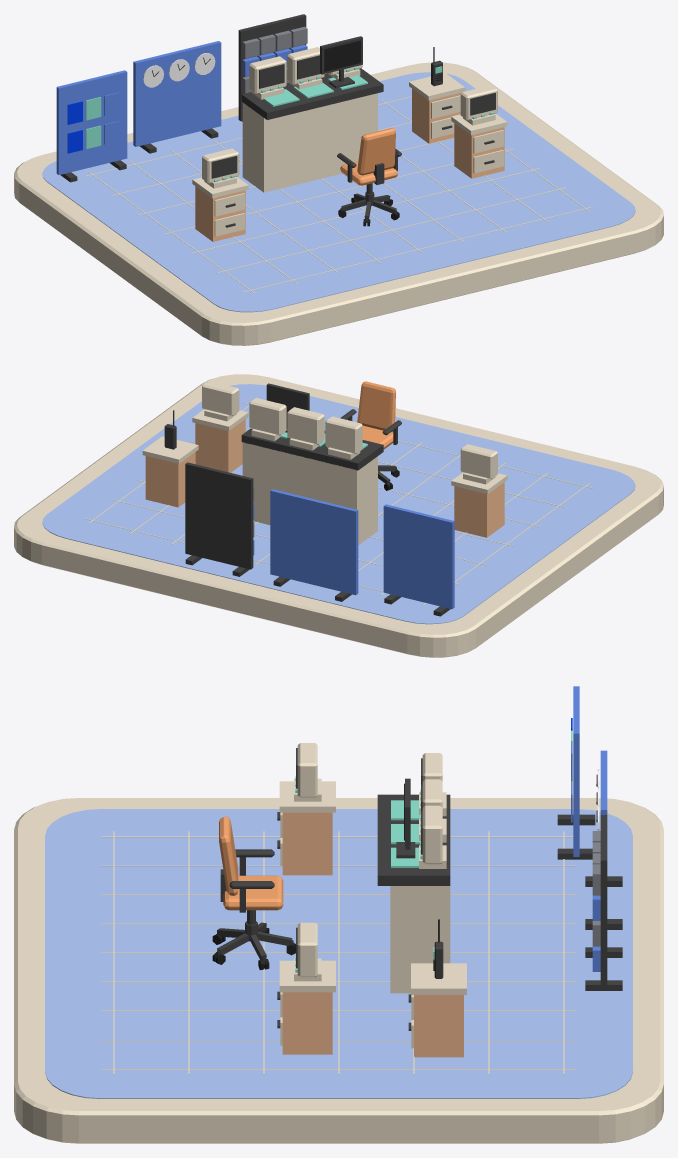
3 renders of one model, top to bottom at view 1: azimuth 30°, elevation 25°; view 2: azimuth 150°, elevation 25°; view 3: azimuth 270°, elevation 25°, orthographic. The views are drawn at different scales.
Parts seen in each view (by area): view 1: COM-02 Floor Surface, COM-01 Rounded Base Direct, Console, Panel.002, Panel.001, COM-04_Chair_blender_direct, Panel, Frame, Panel.003, Body, Body.001, Body.002 (+15 smaller); view 2: COM-02 Floor Surface, COM-01 Rounded Base Direct, Panel.002, Console, Panel.001, Panel.003, COM-04_Chair_blender_direct, Body, Body.001, Body.002, Panel, Housing (+8 smaller); view 3: COM-02 Floor Surface, COM-01 Rounded Base Direct, COM-04_Chair_blender_direct, Console, Body, Body.001, Body.002, Panel, Top.002, Panel.003, Top.001, Top (+10 smaller).
Part boxes in pixels (bbox=[...]): COM-02 Floor Surface: bbox=[42, 72, 635, 312]; COM-01 Rounded Base Direct: bbox=[14, 62, 663, 345]; Console: bbox=[242, 93, 377, 192]; Panel.002: bbox=[133, 41, 221, 146]; Panel.001: bbox=[56, 70, 127, 174]; COM-04_Chair_blender_direct: bbox=[337, 128, 401, 226]; Panel: bbox=[241, 68, 383, 119]; Frame: bbox=[320, 36, 362, 87]; Panel.003: bbox=[238, 14, 306, 121]; Body: bbox=[195, 186, 245, 241]; Body.001: bbox=[454, 123, 504, 178]; Body.002: bbox=[412, 89, 461, 143]; COM-02 Floor Surface: bbox=[42, 384, 635, 624]; COM-01 Rounded Base Direct: bbox=[14, 374, 663, 657]; Panel.002: bbox=[270, 489, 358, 595]; Console: bbox=[242, 442, 377, 544]; Panel.001: bbox=[383, 504, 454, 609]; Panel.003: bbox=[185, 462, 253, 569]; COM-04_Chair_blender_direct: bbox=[340, 381, 401, 490]; Body: bbox=[454, 482, 504, 537]; Body.001: bbox=[195, 419, 245, 472]; Body.002: bbox=[145, 452, 195, 507]; Panel: bbox=[241, 428, 383, 470]; Housing: bbox=[325, 416, 362, 454]; COM-02 Floor Surface: bbox=[45, 809, 632, 1098]; COM-01 Rounded Base Direct: bbox=[14, 798, 663, 1143]; COM-04_Chair_blender_direct: bbox=[212, 816, 295, 969]; Console: bbox=[390, 886, 450, 993]; Body: bbox=[282, 812, 332, 875]; Body.001: bbox=[282, 992, 332, 1054]; Body.002: bbox=[414, 995, 463, 1057]; Panel: bbox=[377, 794, 450, 885]; Top.002: bbox=[411, 963, 466, 994]; Panel.003: bbox=[600, 815, 607, 987]; Top.001: bbox=[279, 960, 335, 992]; Top: bbox=[279, 781, 335, 812].
Bounding box in the file's own units: 6 × 1.88 × 5.2.
Materials: 1 (1 with a texture image).
